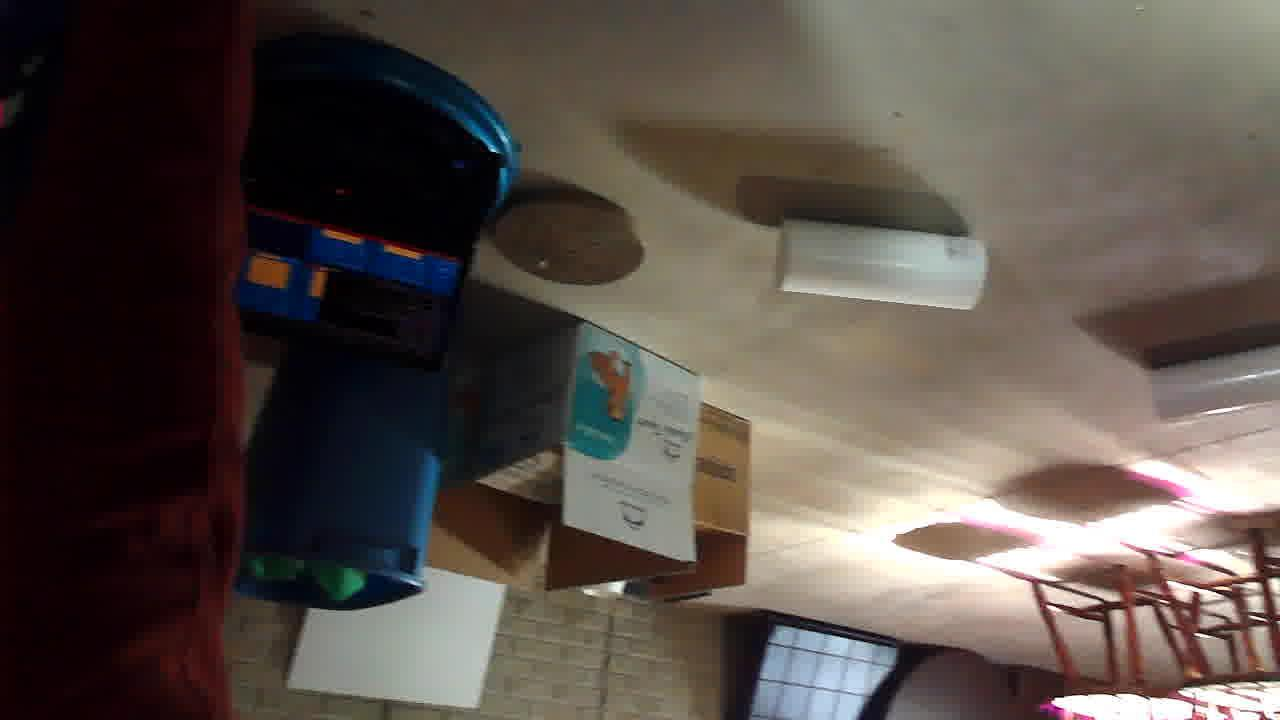coral: (286, 403, 508, 507), (0, 302, 122, 370)
